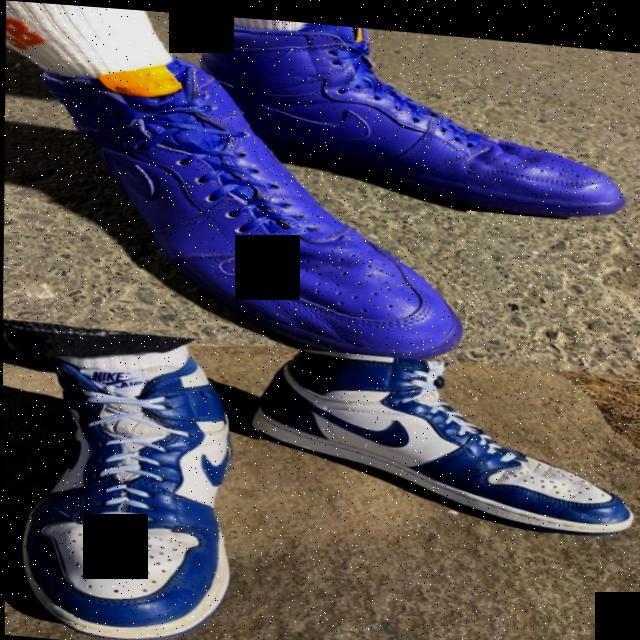shoe: (19, 42, 469, 357), (179, 10, 636, 215), (235, 329, 640, 538), (4, 317, 261, 640)
